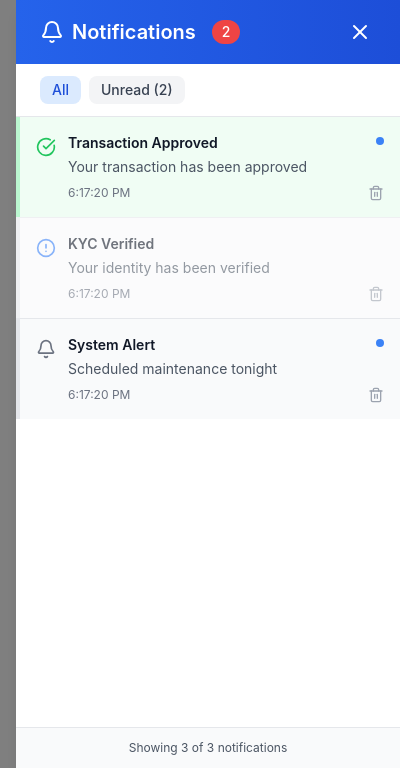
NotificationCenter Component › should filter unread notifications
This screenshot has width=400, height=768.
Click the button "Unread (2)". click: (137, 90)
box: x1=89 y1=76 x2=185 y2=104
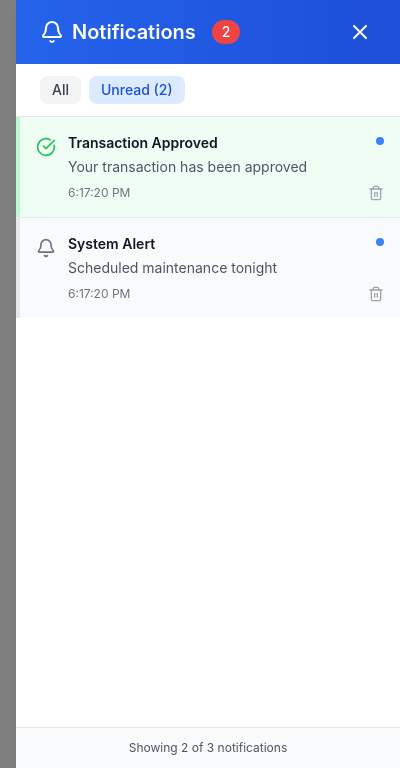
Check: the text "Transaction Approved" is shown, box x1=68 y1=134 x2=218 y2=151
Check: the text "KYC Verified" is gone
